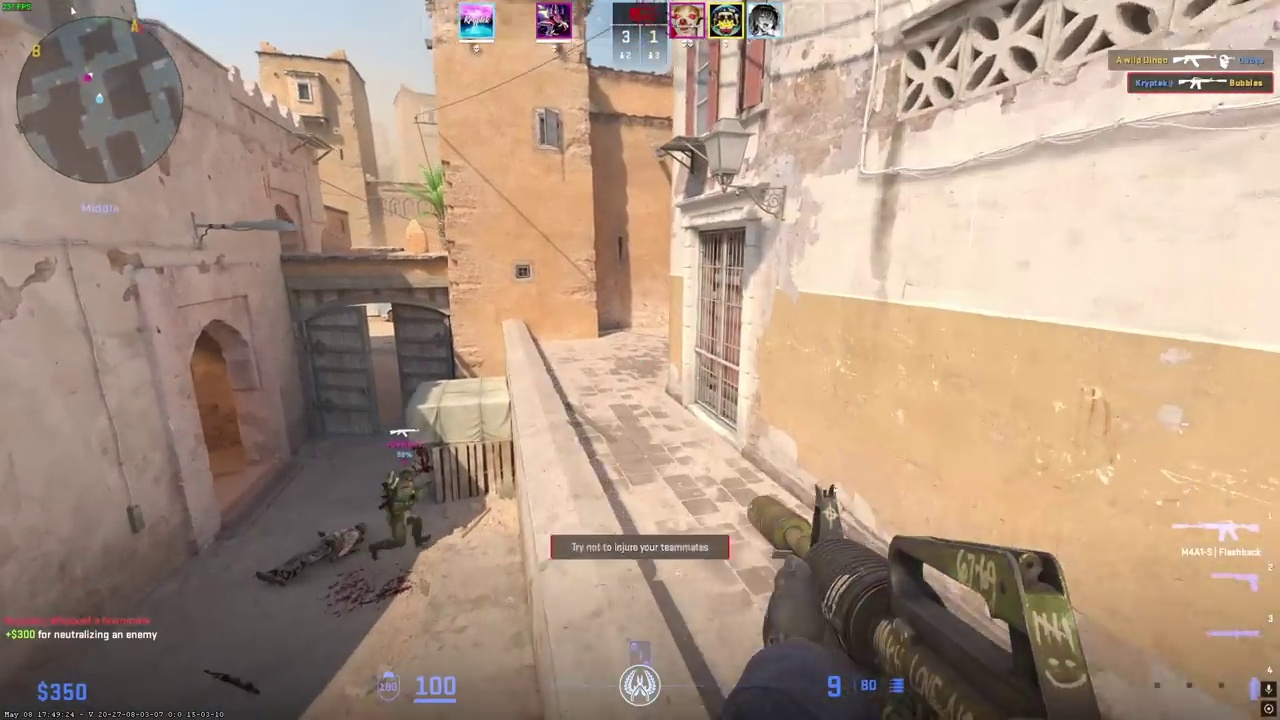CT: (369, 468, 427, 560)
